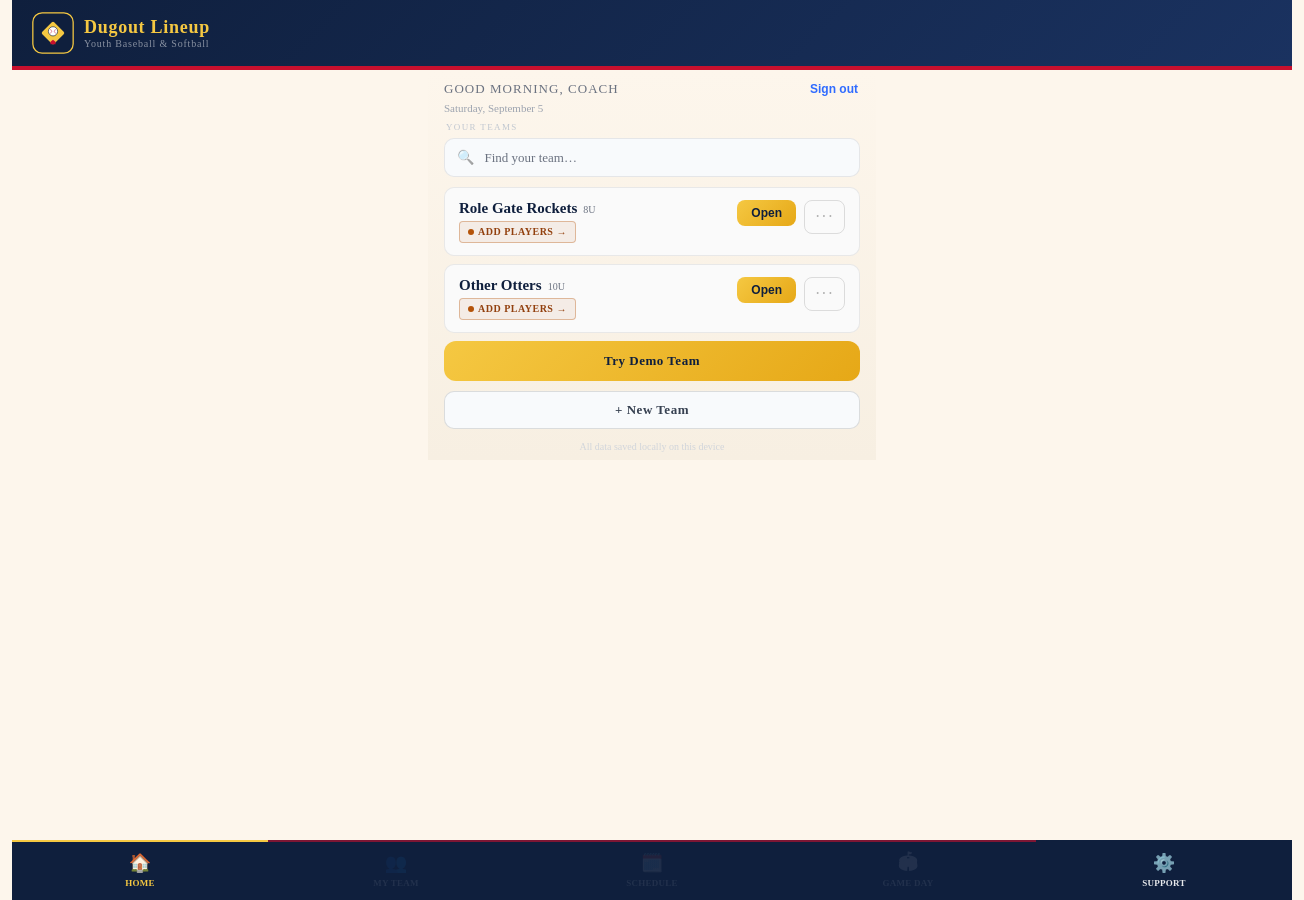
Test case: Home team card '···' menu — role-gated (#666) › admin sees Edit team and Delete team
Click the button "···" in the row of "8U" at point(824, 217), box [804,200,845,234]
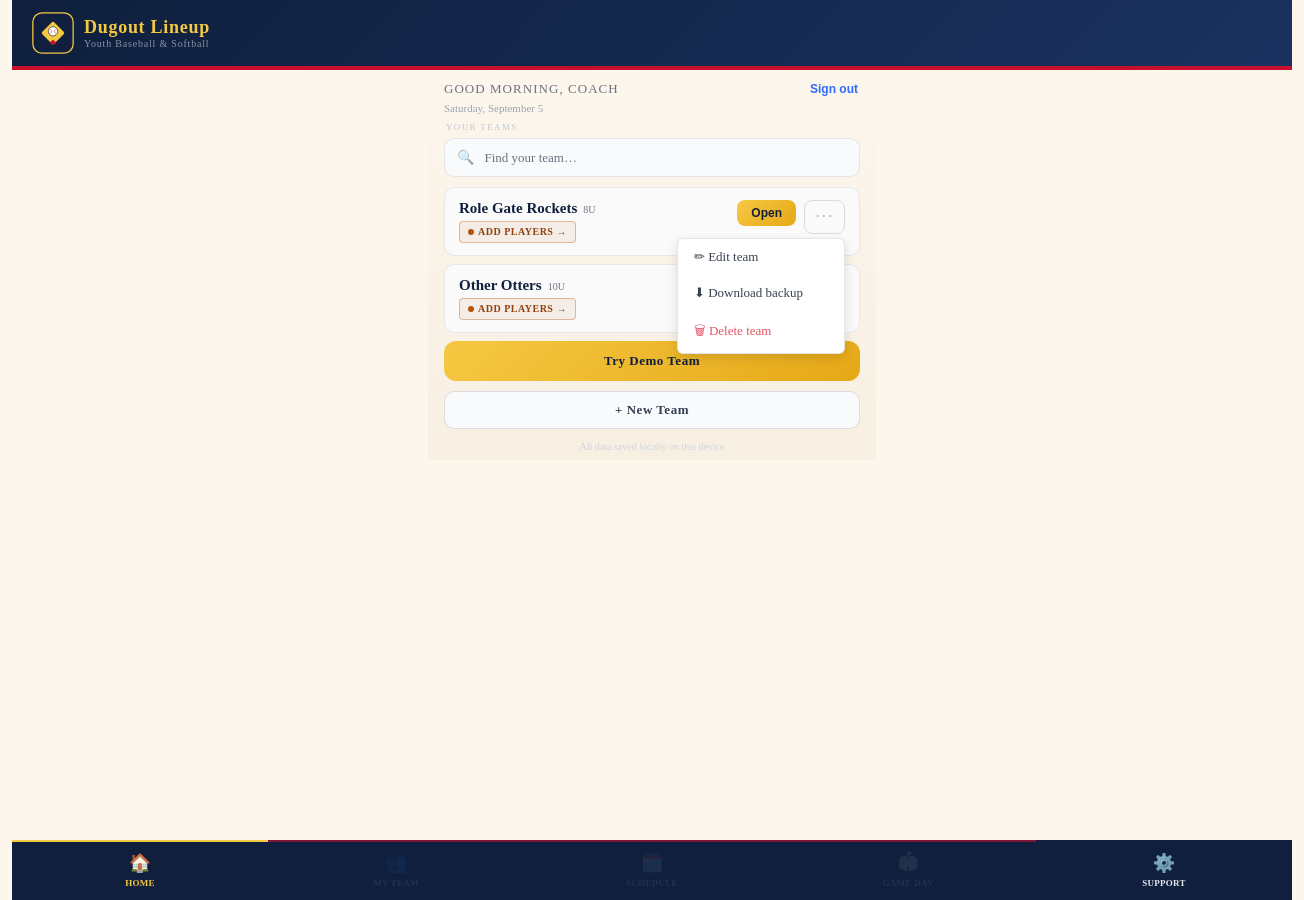
expect the text "⬇ Download backup" is shown: met, box [694,285,803,300]
expect the text "✏ Edit team" is shown: met, box [694,249,758,264]
expect the text "🗑 Delete team" is shown: met, box [694,323,771,338]
